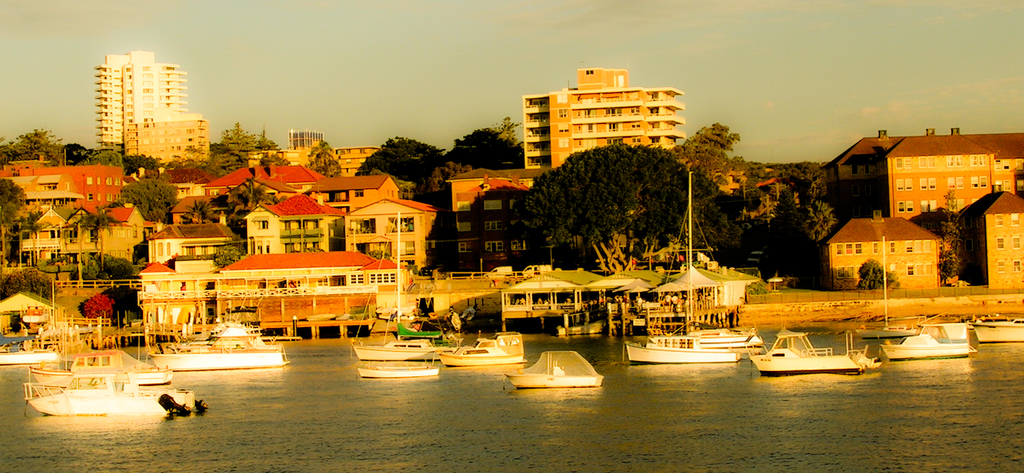Tree: (513, 137, 723, 266), (736, 177, 876, 303), (350, 128, 439, 237), (172, 173, 279, 239), (666, 111, 751, 186), (57, 195, 129, 271), (85, 131, 172, 183), (441, 120, 532, 166), (0, 117, 71, 173), (206, 107, 281, 151), (0, 170, 32, 270), (301, 131, 344, 187)
